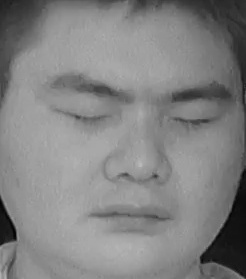blink: (55, 99, 113, 135), (174, 104, 220, 140)
mouth: (87, 189, 176, 240)
